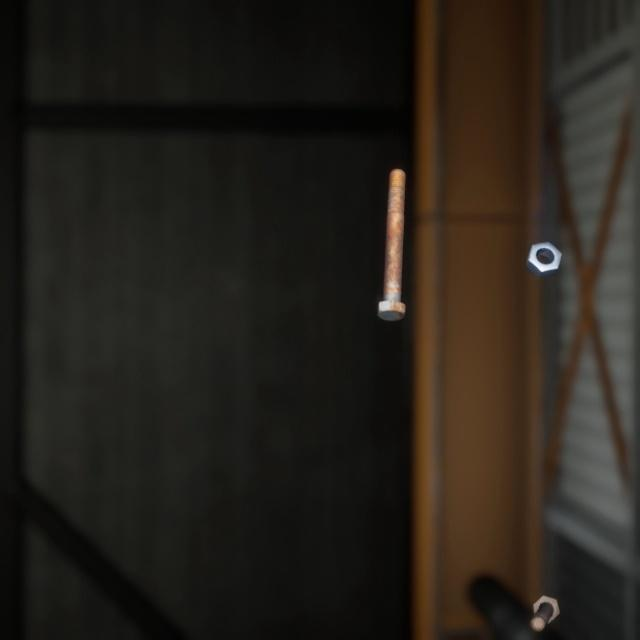bolt: (372, 149, 410, 310), (526, 567, 564, 611)
nut: (521, 221, 566, 265)
